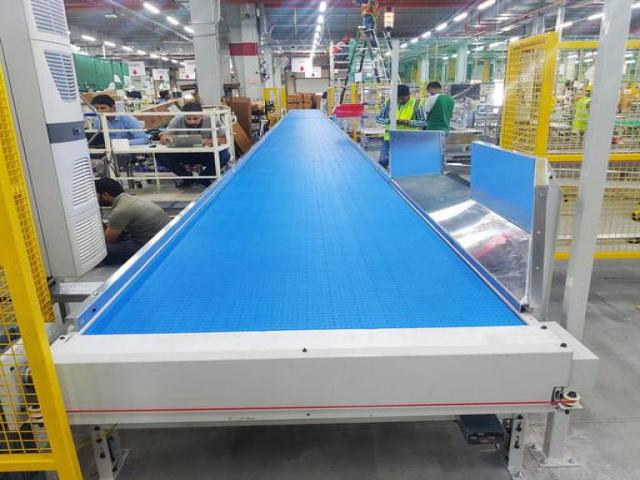conveyor: (59, 103, 588, 408)
